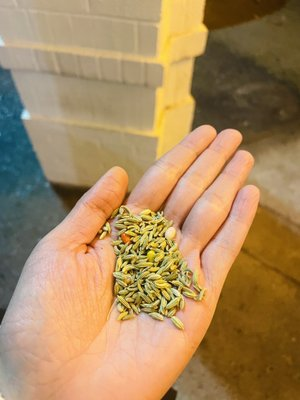burger: (124, 123, 217, 215)
